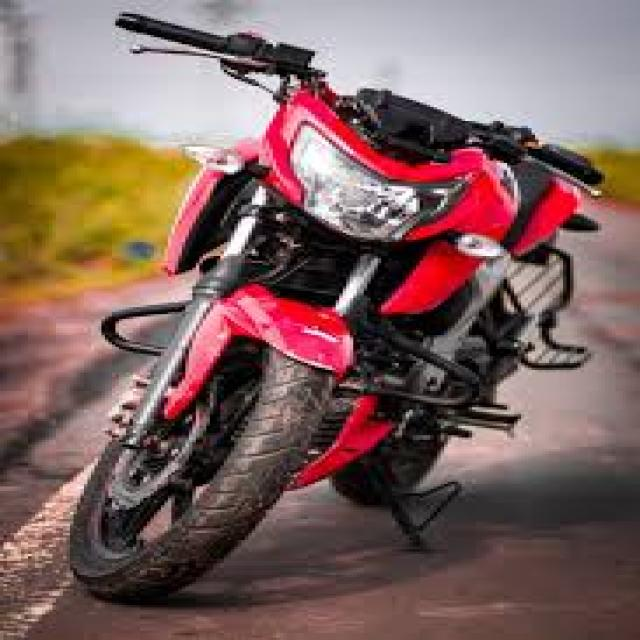bike: (100, 15, 577, 565)
